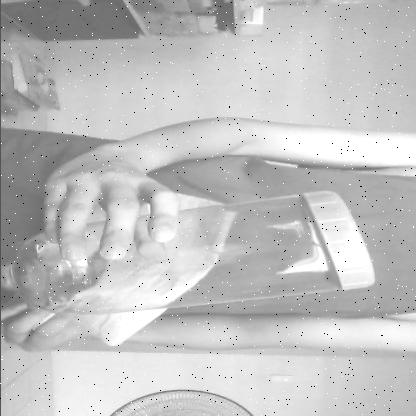Plastic Bottle: (0, 193, 384, 320)
